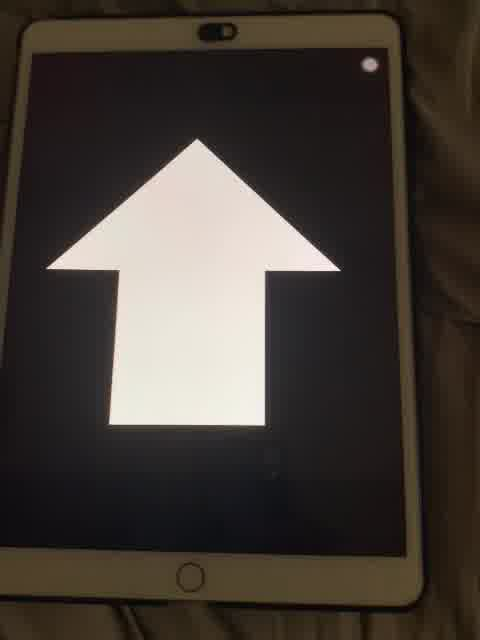up: (46, 134, 344, 429)
